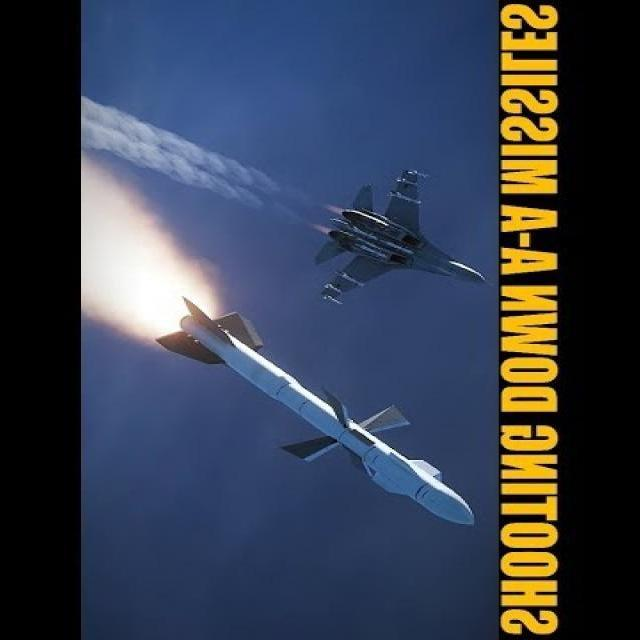missile: (146, 300, 485, 537)
